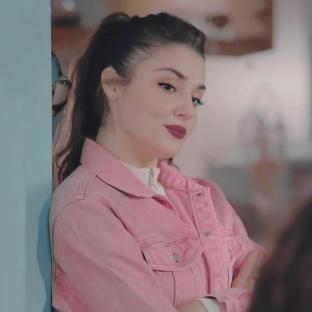Human: (50, 13, 266, 312)
